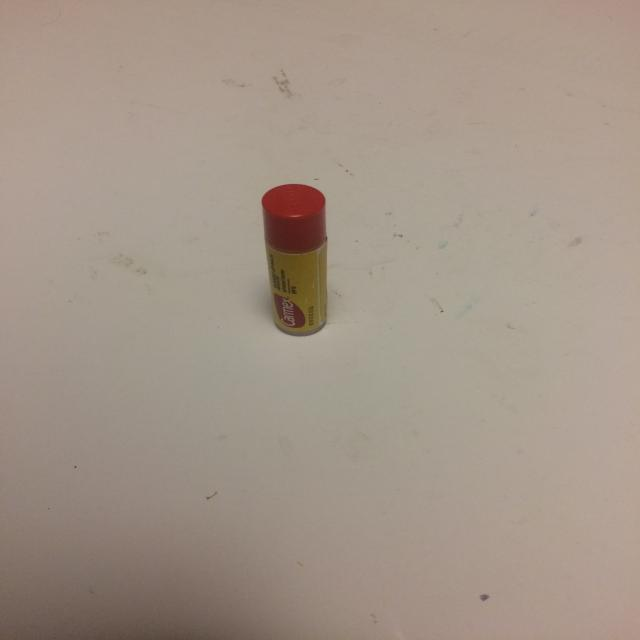Plastic: (206, 174, 374, 398)
